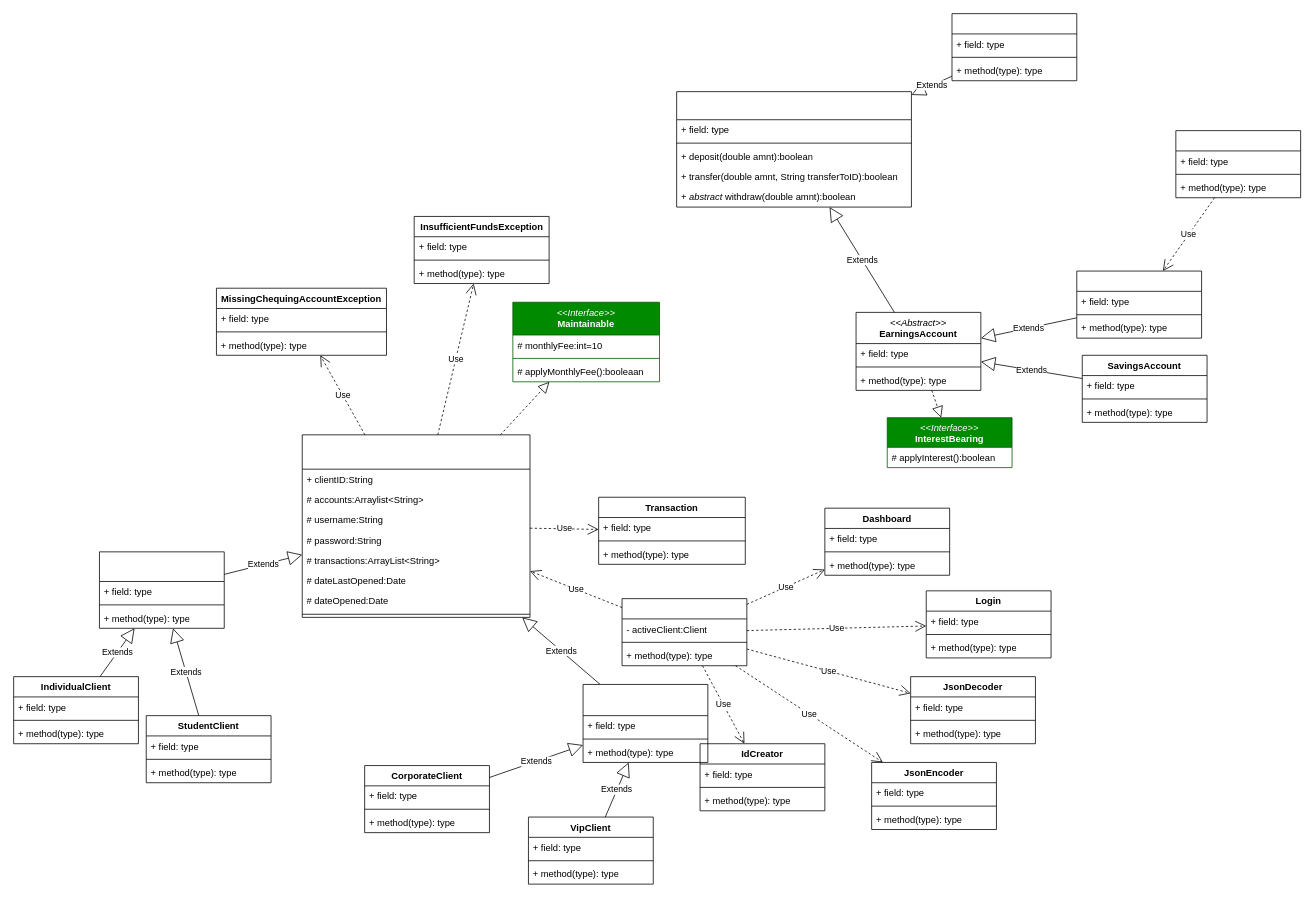
Image size: 1314x900. Some labels were removed from this diagram. Each missing label, with the box of its shape:
<<Abstract>> Account: (676, 91, 911, 207)
<<Abstract>> Client: (301, 434, 530, 617)
<<Abstract>> PremiumClient: (582, 684, 708, 762)
<<Abstract>> StandardClient: (99, 551, 224, 628)
ChequingAccount: (951, 13, 1077, 81)
Driver: (621, 598, 747, 666)
InvestmentAccount: (1076, 270, 1202, 338)
InvestmentLockException: (1175, 130, 1301, 198)
